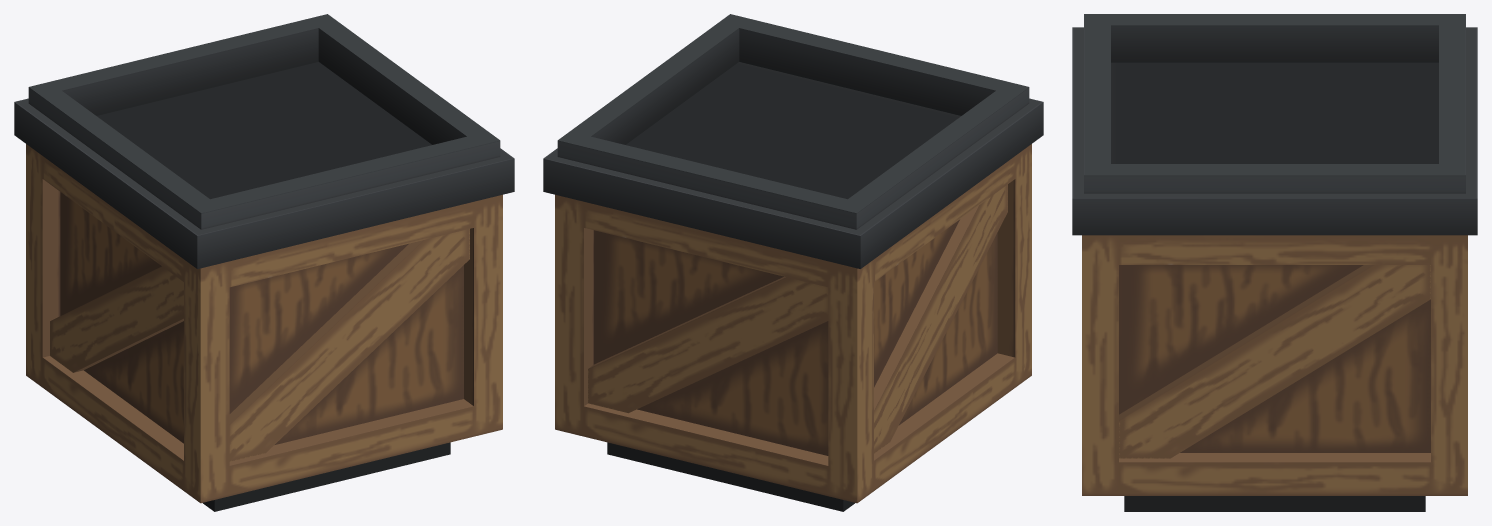
The model's file is TableHortifruti.fbx.
3 renders of one model, left to right at view 1: azimuth 30°, elevation 25°; view 2: azimuth 150°, elevation 25°; view 3: azimuth 270°, elevation 25°, orthographic. The views are drawn at different scales.
Visible parts, largest first — view 1: TableHortifruti; view 2: TableHortifruti; view 3: TableHortifruti.
Part boxes in pixels (x1,y1,x2,y2): TableHortifruti: [14, 14, 514, 511]; TableHortifruti: [543, 14, 1043, 511]; TableHortifruti: [1072, 14, 1477, 511].
Bounding box in the file's own units: 149 × 143 × 149.
